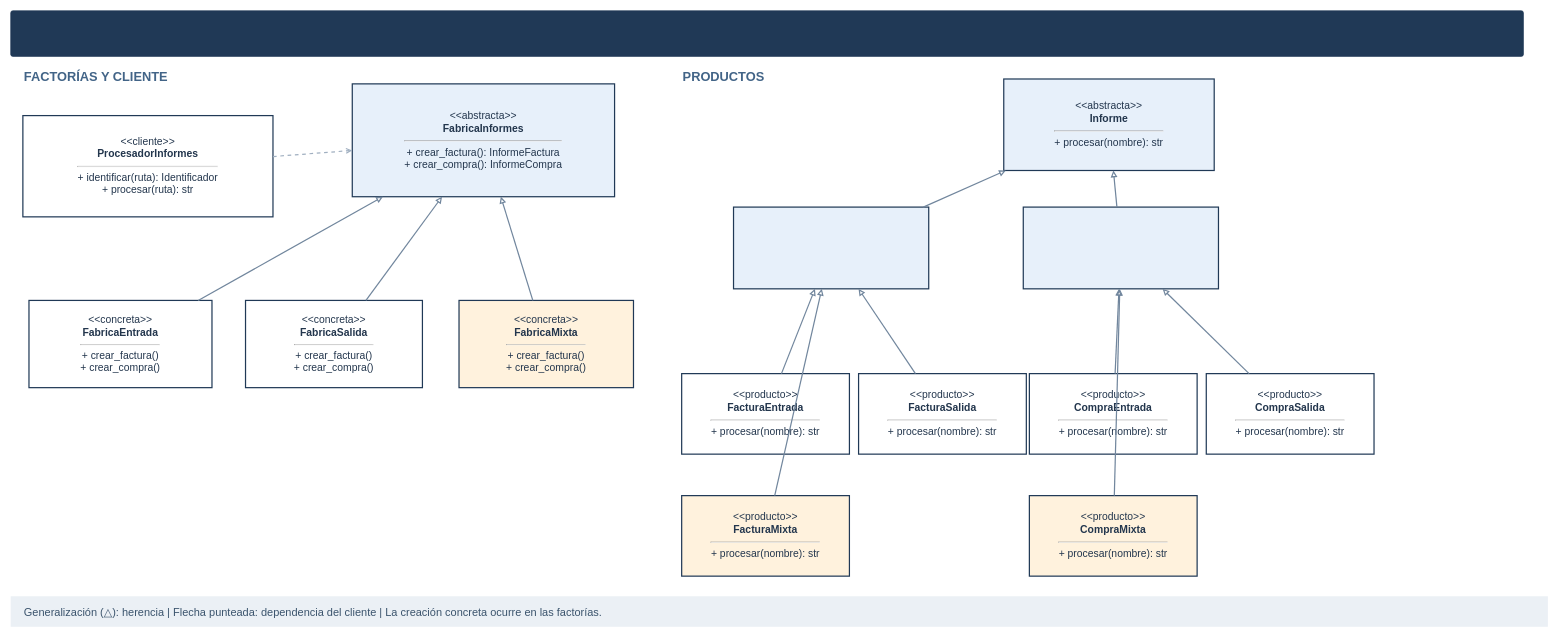
Some shapes in this 1565 by 637 pixel diagram are drawn without their labels. The shapes that lost their labels are listed below. From the top down, each one's centre as x and y in pixels, then its label:
the point at 766,33: V2 | Nueva categoría MIXTA
the point at 831,247: <<abstracta>> InformeFactura + procesar(nombre): str
the point at 1120,247: <<abstracta>> InformeCompra + procesar(nombre): str
